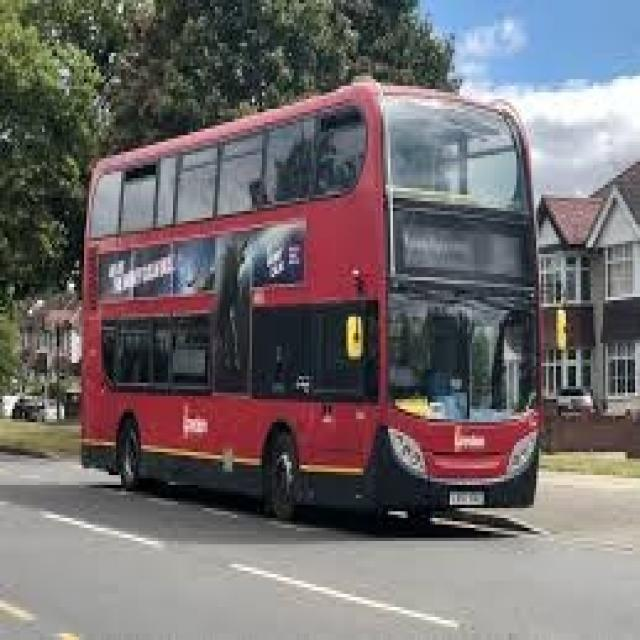bus: (29, 43, 582, 540)
